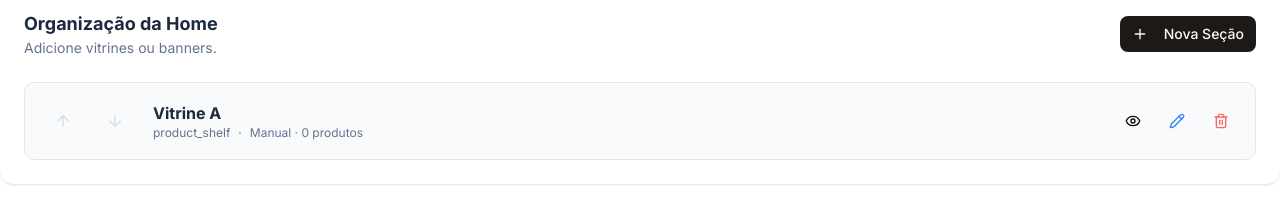
Test: SectionsTab › alternar visibilidade (regressão) › continua alternando isActive sem exigir confirmação
Check: the text "Inativo" is not shown
Step 1. Click the button named "Alternar Visibilidade" → [1133, 121], box [1115,103,1151,139]
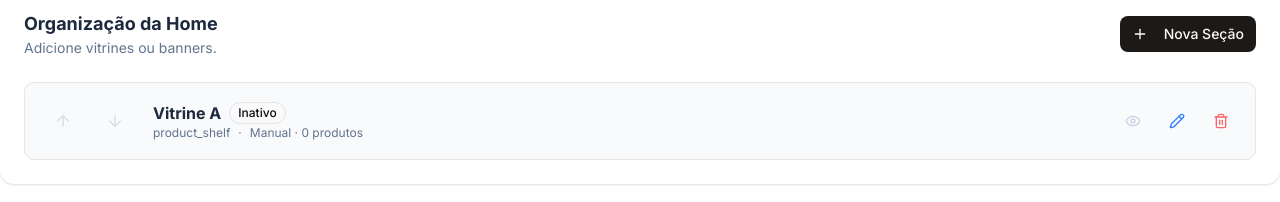
Check: the text "Inativo" is shown, box [229,102,286,124]
